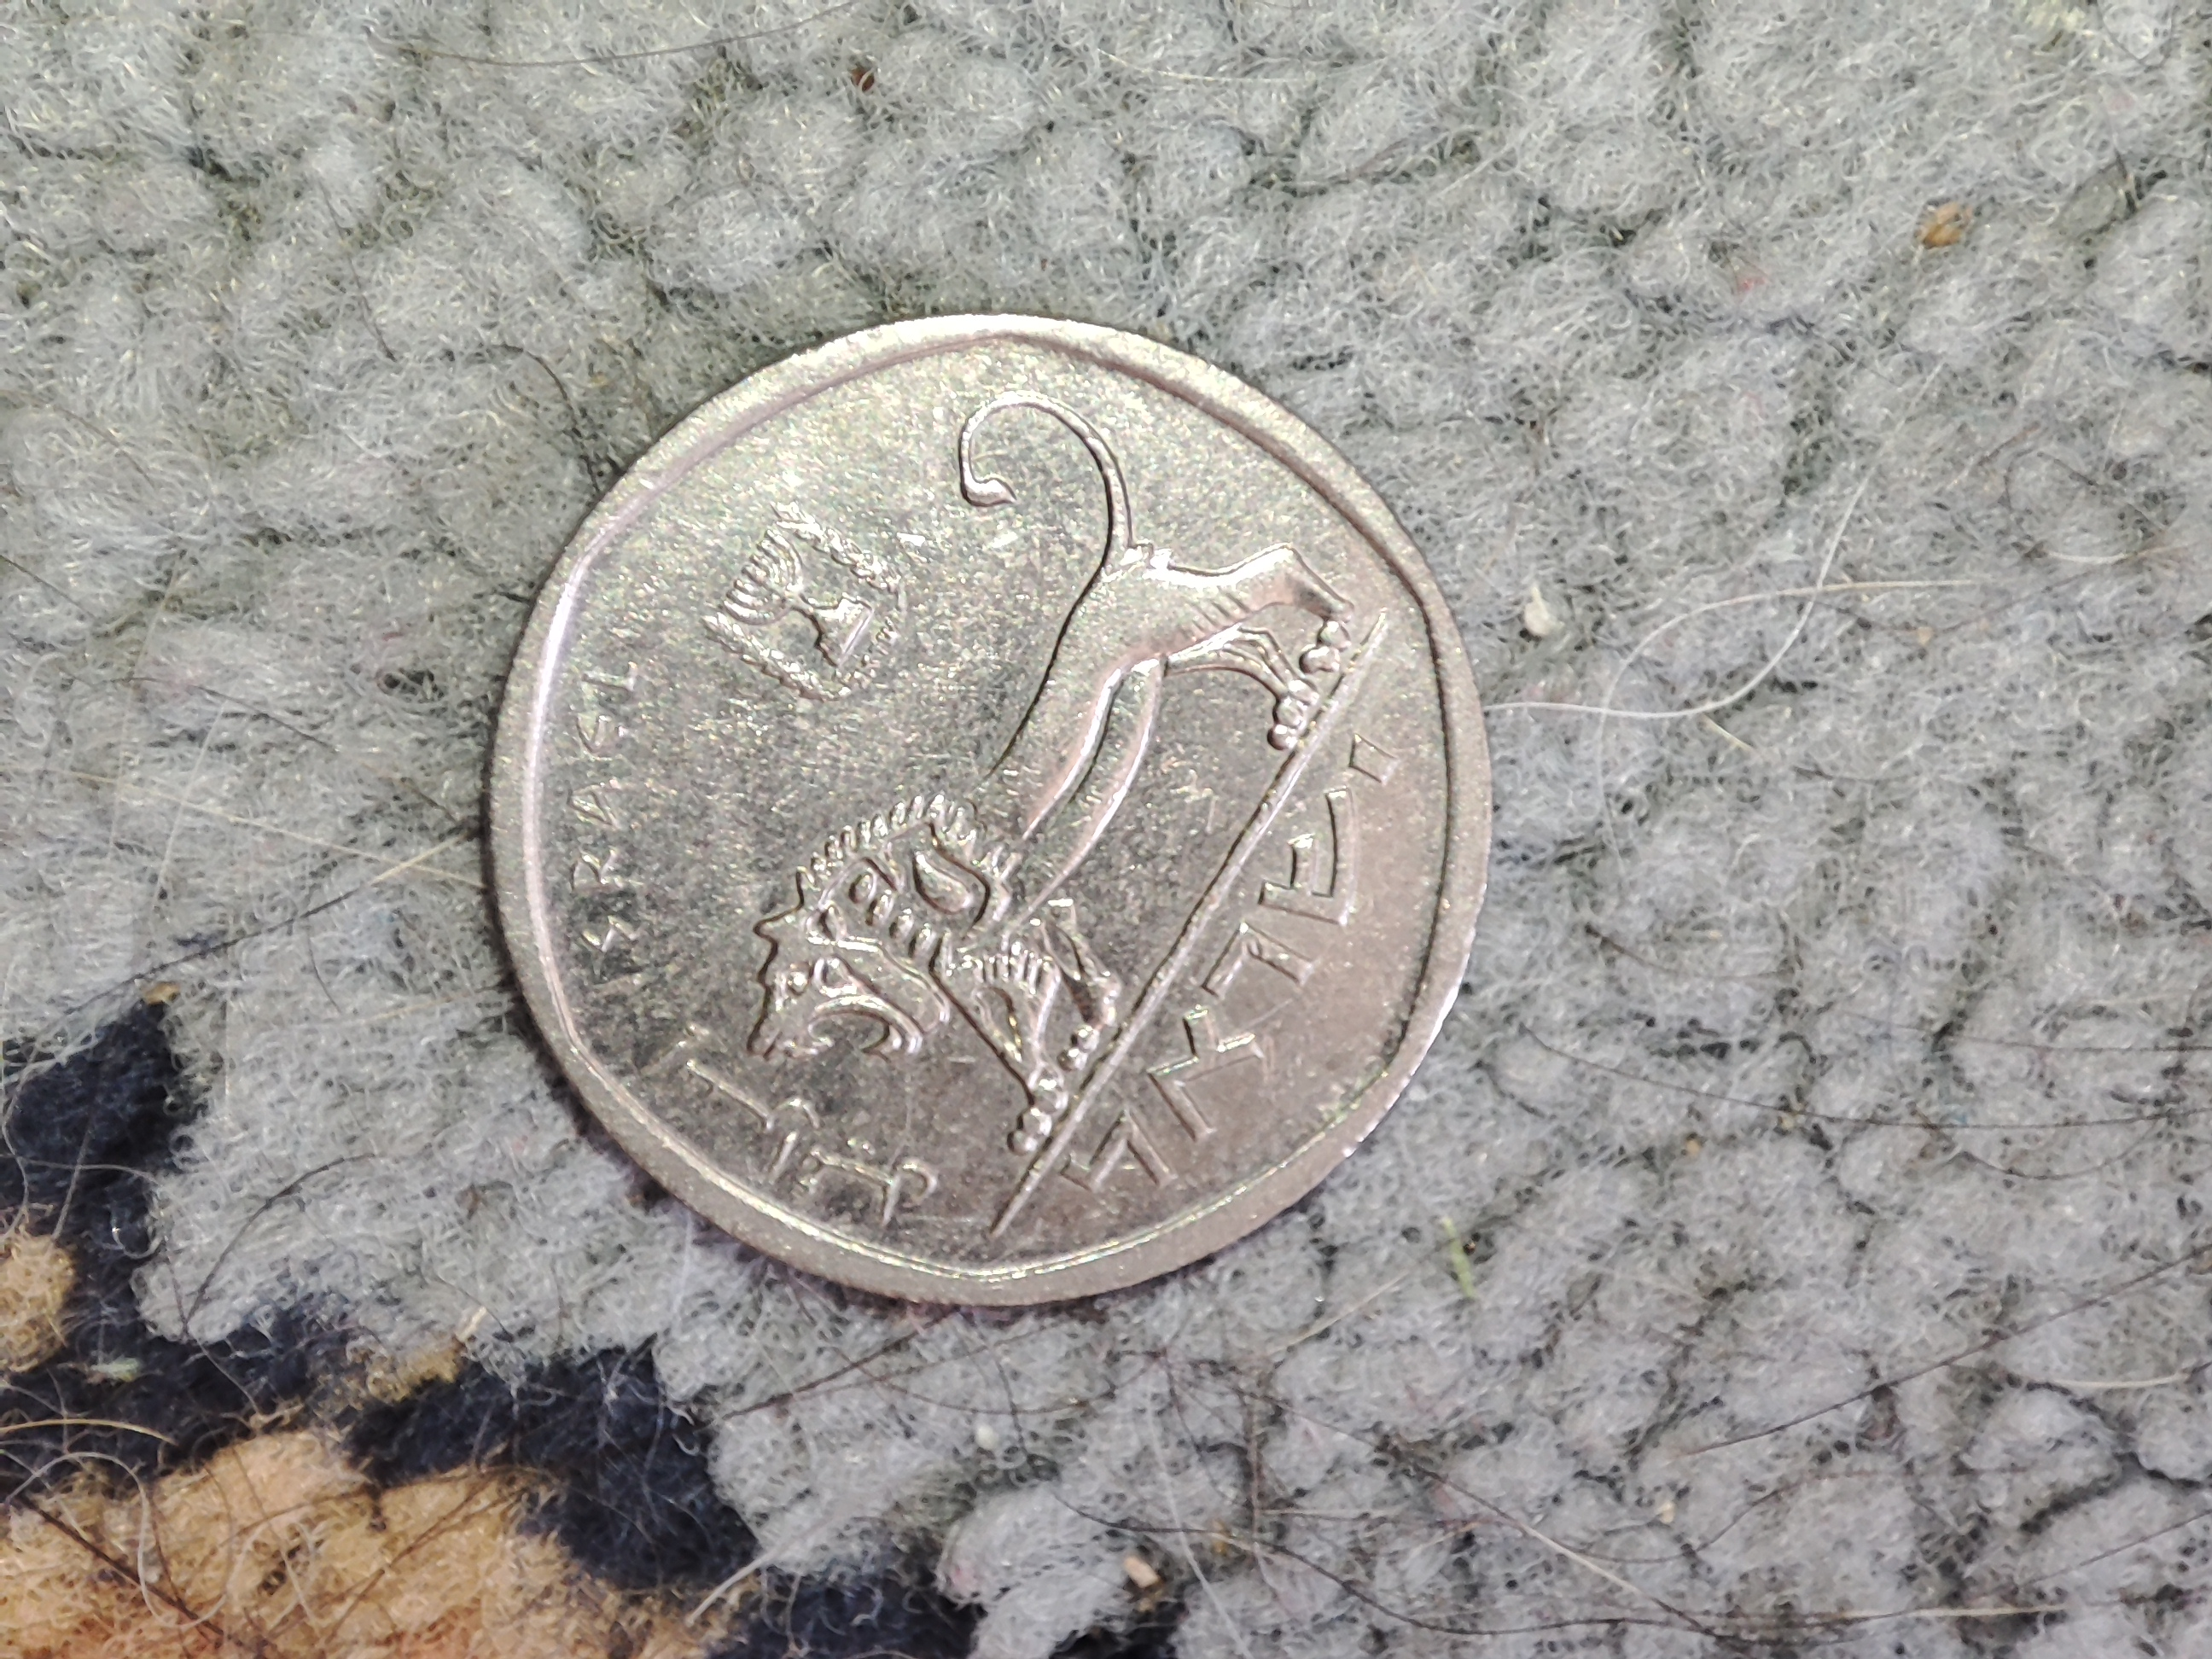1/2 old sheqel: (477, 301, 1501, 1323)
